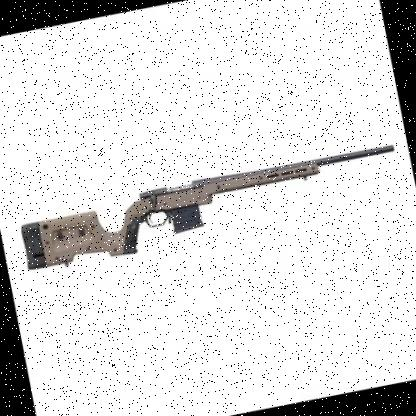rifle: (12, 138, 410, 281)
